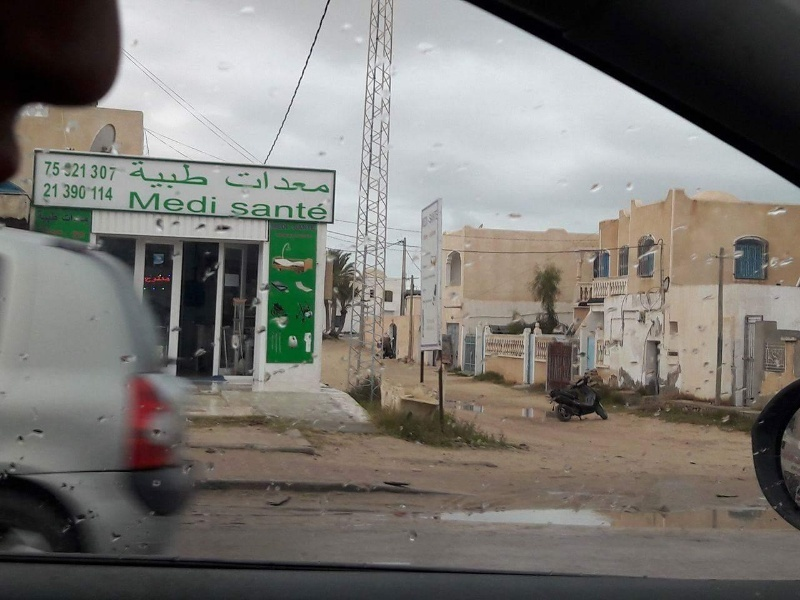text: (129, 159, 144, 193), (145, 159, 160, 193), (161, 159, 176, 193), (177, 159, 192, 193), (193, 159, 208, 193), (225, 168, 240, 197), (241, 168, 256, 197), (257, 168, 272, 197), (273, 168, 288, 197), (289, 168, 304, 197), (305, 168, 320, 197), (145, 191, 160, 214), (161, 191, 176, 214), (177, 191, 192, 214), (193, 191, 208, 214), (130, 191, 144, 214), (241, 201, 256, 222), (257, 201, 272, 222), (273, 201, 288, 222), (289, 201, 304, 222), (305, 201, 320, 222), (321, 168, 331, 197), (65, 162, 80, 180), (97, 165, 112, 182), (65, 184, 80, 201), (97, 185, 112, 201), (49, 159, 61, 177), (65, 212, 80, 225), (145, 273, 160, 286), (49, 182, 59, 201), (209, 191, 217, 214), (37, 209, 48, 225), (49, 209, 60, 225), (232, 201, 240, 222), (321, 201, 329, 222), (273, 222, 289, 231), (161, 273, 172, 286), (81, 212, 90, 225), (81, 162, 87, 180), (81, 184, 87, 201), (43, 182, 48, 201), (91, 165, 96, 182), (113, 165, 118, 182), (91, 185, 96, 201), (294, 224, 304, 232), (305, 224, 315, 232), (45, 159, 48, 177), (61, 212, 64, 225), (209, 159, 210, 193), (63, 162, 64, 180), (63, 184, 64, 201), (113, 185, 114, 201), (143, 273, 144, 286)
